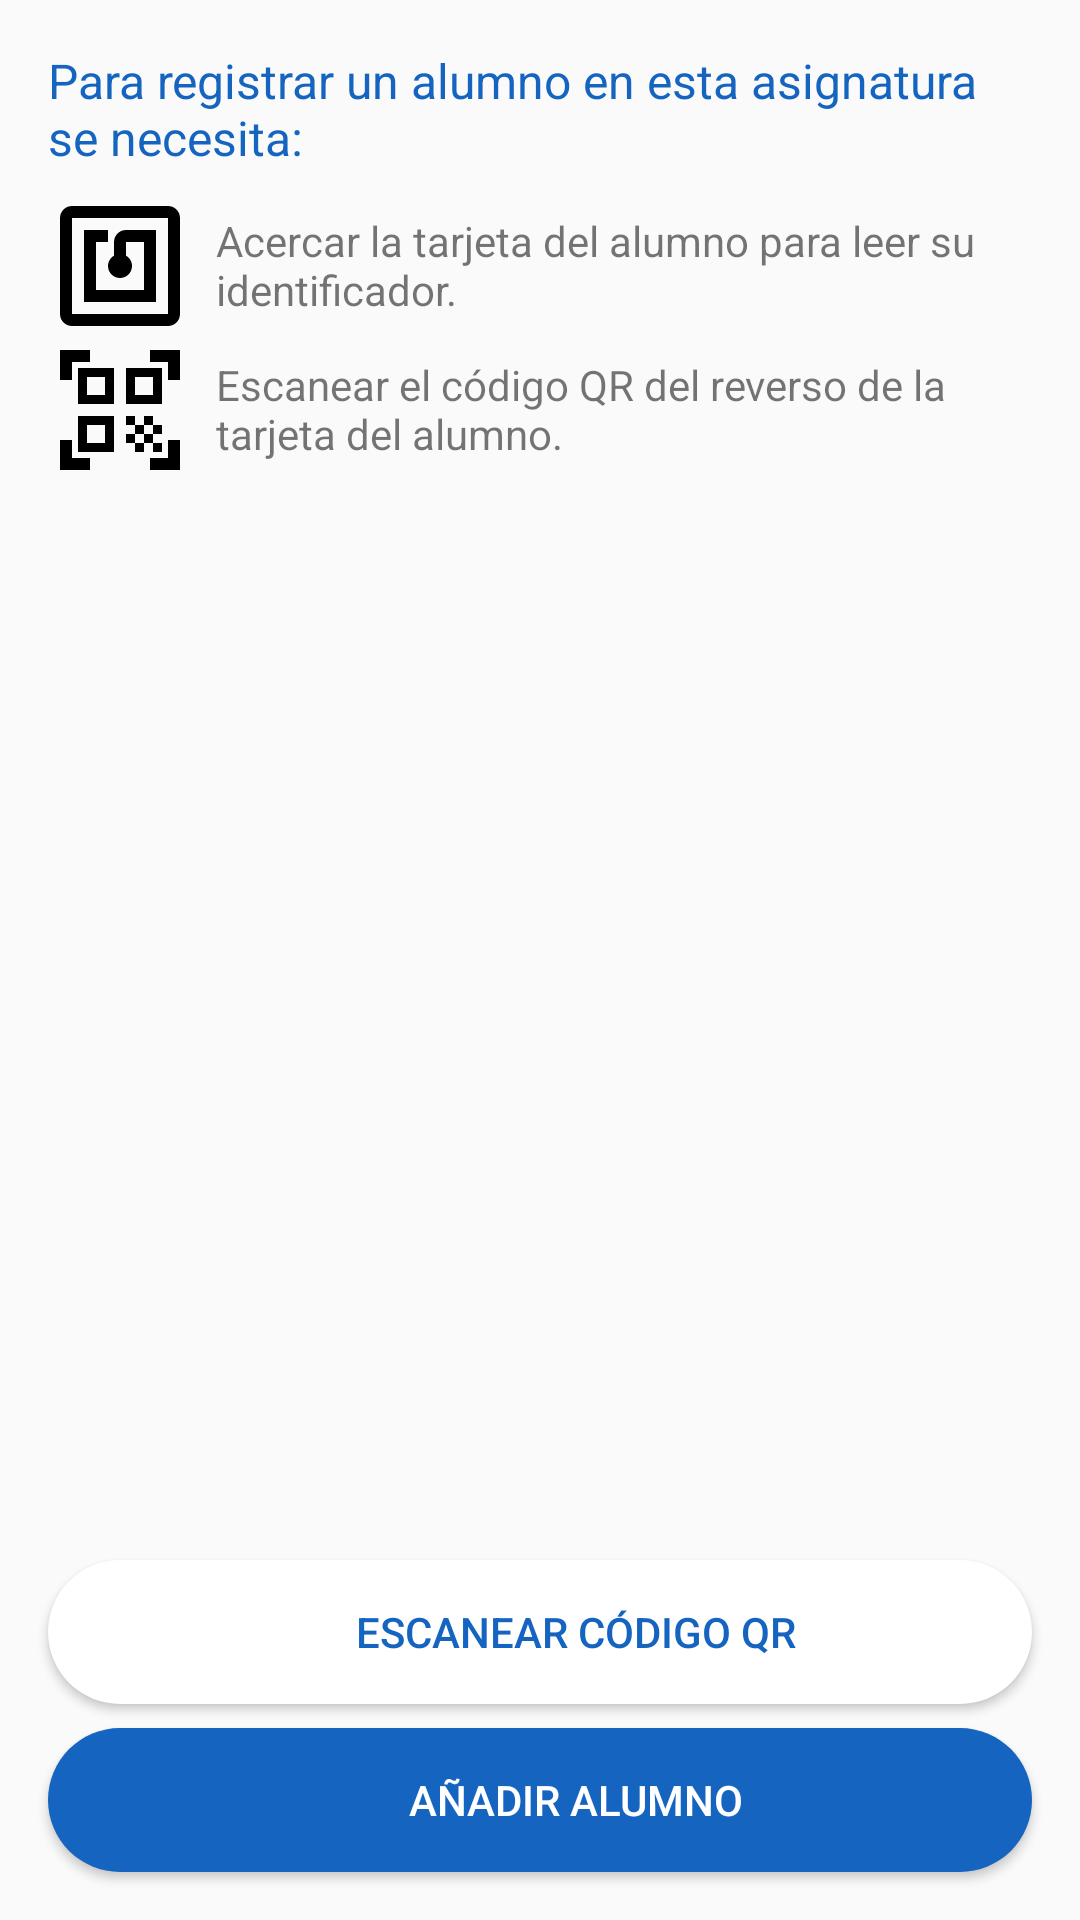

Where icons sit on this 1080x1920 app screen, as (x1, y1, x2, y2):
qr code scanner: (60, 350, 180, 470)
